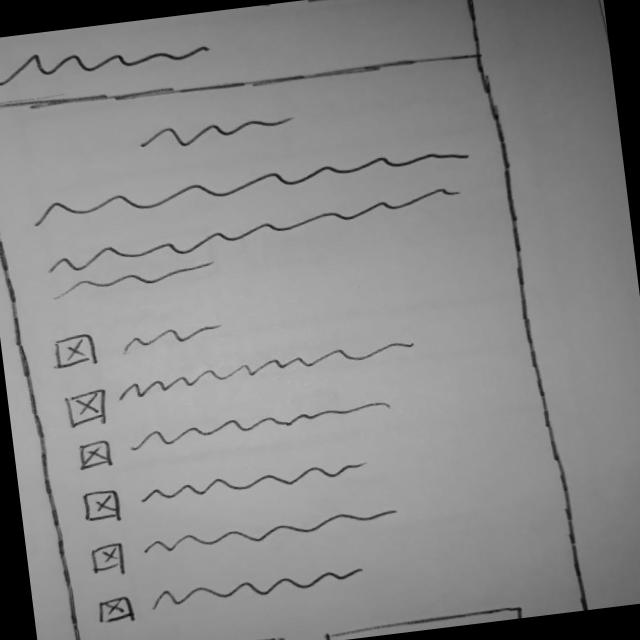button: (325, 603, 534, 640), (104, 632, 295, 640)
checkbox: (59, 336, 426, 434), (75, 397, 399, 477), (88, 505, 408, 581), (80, 455, 377, 527), (92, 563, 375, 631), (45, 315, 241, 374)
container: (1, 38, 601, 640), (1, 1, 491, 122)
text: (29, 144, 480, 229), (1, 26, 224, 97), (130, 104, 301, 158)
textbox: (36, 181, 478, 305)
